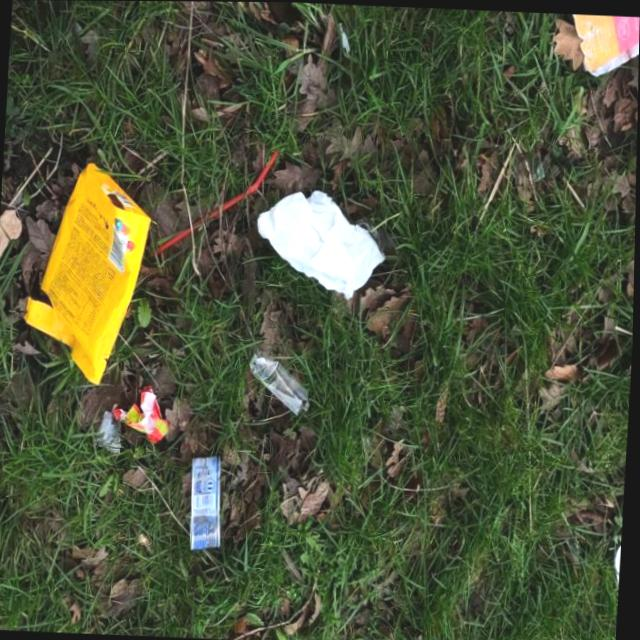Paper: (252, 184, 390, 301)
Plastic: (19, 158, 156, 387), (243, 332, 323, 420), (110, 384, 173, 446)
